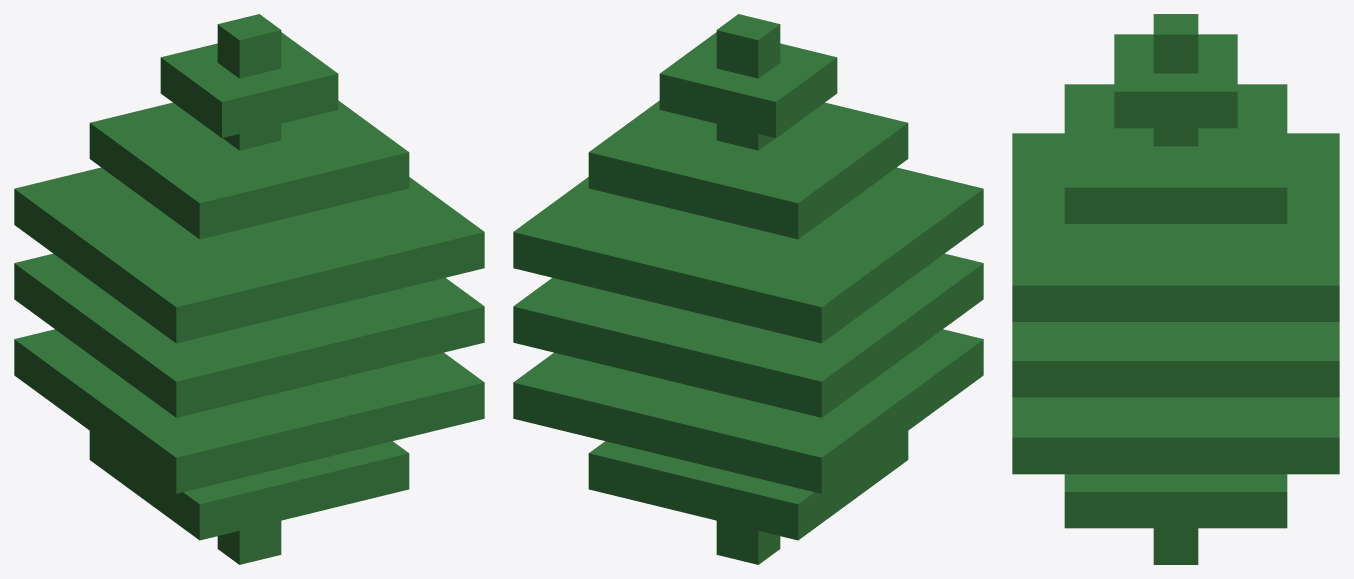
The model's file is Polypody.glb.
3 views of the same model, side by side, from view 1: azimuth 30°, elevation 25°; view 2: azimuth 150°, elevation 25°; view 3: azimuth 270°, elevation 25° (orthographic).
Parts seen in each view (by area): view 1: Cube.003, Cube.005, Cube.004, Cube.002, Cube.006, Cube.001, Cube; view 2: Cube.003, Cube.005, Cube.004, Cube.002, Cube.006, Cube.001, Cube; view 3: Cube.003, Cube.005, Cube.002, Cube.004, Cube.006, Cube.001, Cube.
Boxes of the visible parts, x1=… form: Cube.003: x1=14, y1=167, x2=484, y2=343; Cube.005: x1=14, y1=329, x2=484, y2=493; Cube.004: x1=14, y1=253, x2=484, y2=417; Cube.002: x1=89, y1=100, x2=409, y2=239; Cube.006: x1=89, y1=431, x2=409, y2=540; Cube.001: x1=160, y1=32, x2=338, y2=137; Cube: x1=217, y1=14, x2=281, y2=564; Cube.003: x1=513, y1=167, x2=983, y2=343; Cube.005: x1=513, y1=329, x2=983, y2=493; Cube.004: x1=513, y1=253, x2=983, y2=417; Cube.002: x1=588, y1=100, x2=908, y2=239; Cube.006: x1=588, y1=431, x2=908, y2=540; Cube.001: x1=659, y1=32, x2=837, y2=137; Cube: x1=716, y1=14, x2=780, y2=564; Cube.003: x1=1012, y1=133, x2=1339, y2=321; Cube.005: x1=1012, y1=397, x2=1339, y2=474; Cube.002: x1=1064, y1=84, x2=1287, y2=223; Cube.004: x1=1012, y1=322, x2=1339, y2=397; Cube.006: x1=1064, y1=474, x2=1287, y2=528; Cube.001: x1=1114, y1=34, x2=1237, y2=128; Cube: x1=1153, y1=14, x2=1198, y2=564.
Bounding box in the file's own units: 0.8298 × 1.35 × 0.755.
